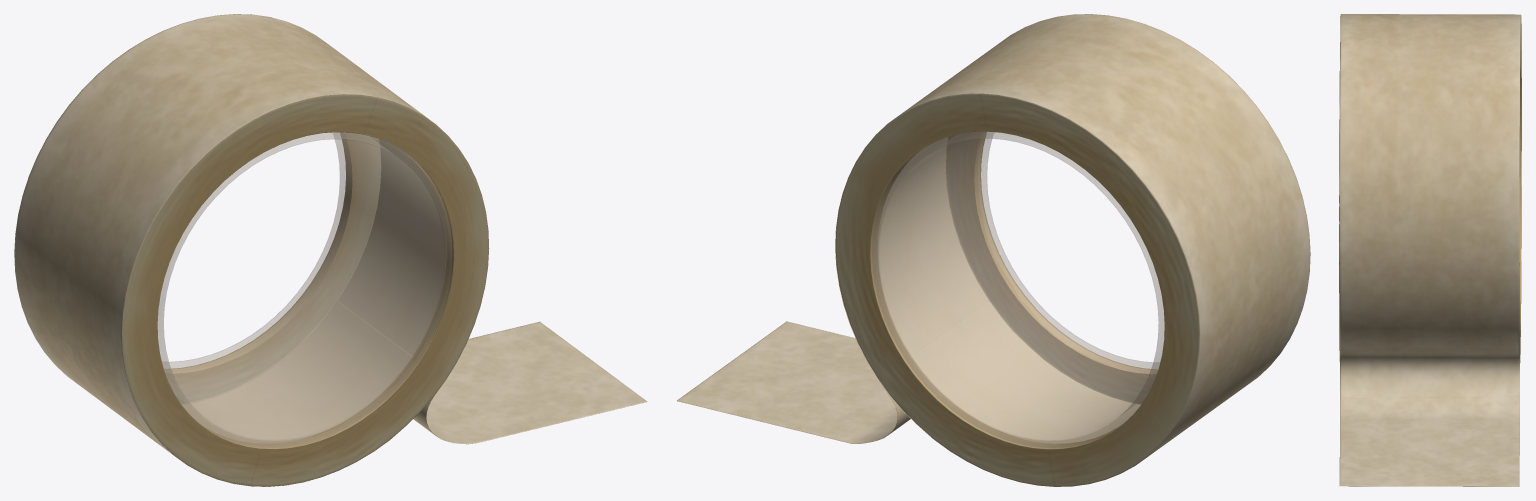
Rendered from react-tape-C_8FeF2E.glb.
The picture shows the model from 3 angles, left to right: view 1: azimuth 30°, elevation 25°; view 2: azimuth 150°, elevation 25°; view 3: azimuth 270°, elevation 25°; orthographic projection. The views are drawn at different scales.
Visible parts, largest first — view 1: Packing_Tape_Clear_no_Dispenser_01; view 2: Packing_Tape_Clear_no_Dispenser_01; view 3: Packing_Tape_Clear_no_Dispenser_01.
Boxes of the visible parts, x1,y1,x2,y2 form: Packing_Tape_Clear_no_Dispenser_01: [14, 14, 647, 486]; Packing_Tape_Clear_no_Dispenser_01: [677, 14, 1310, 486]; Packing_Tape_Clear_no_Dispenser_01: [1339, 14, 1521, 486].
Size of the model in its own units: 0.1717 by 0.1204 by 0.0626.
Materials: 2 (2 with a texture image).
